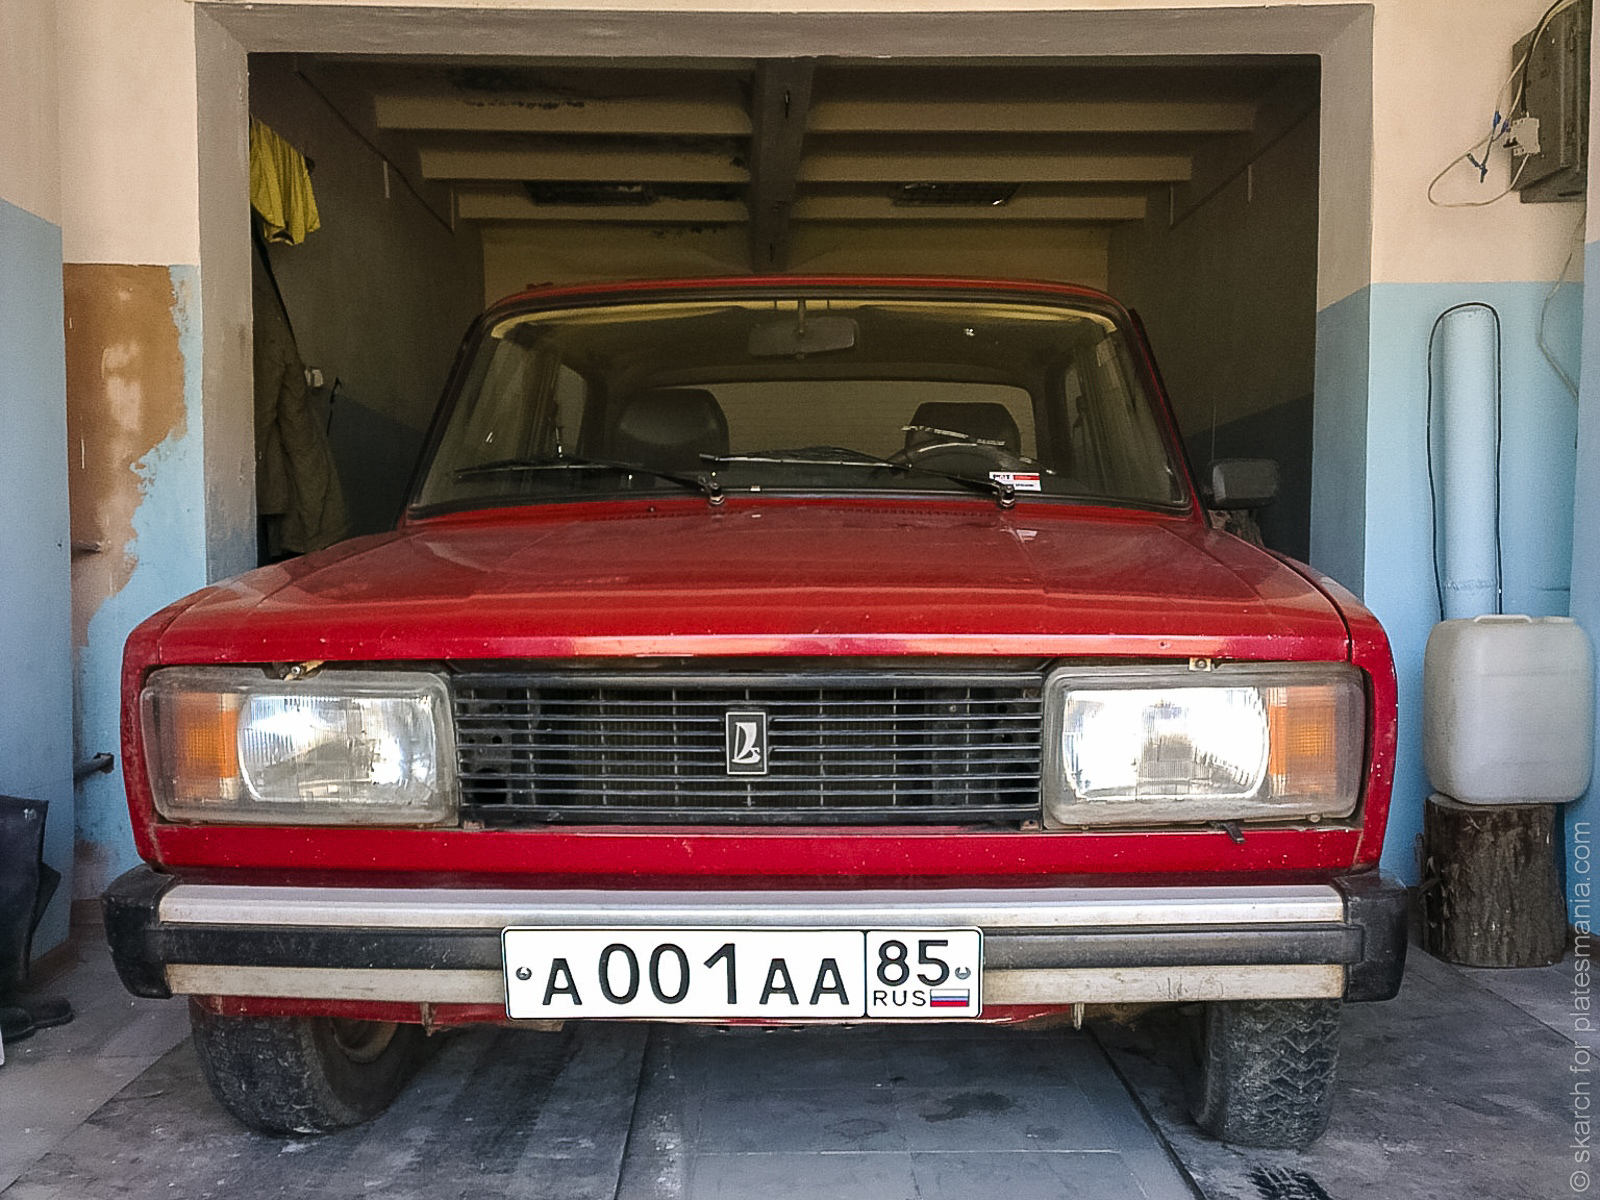plate: (502, 926, 985, 1022)
